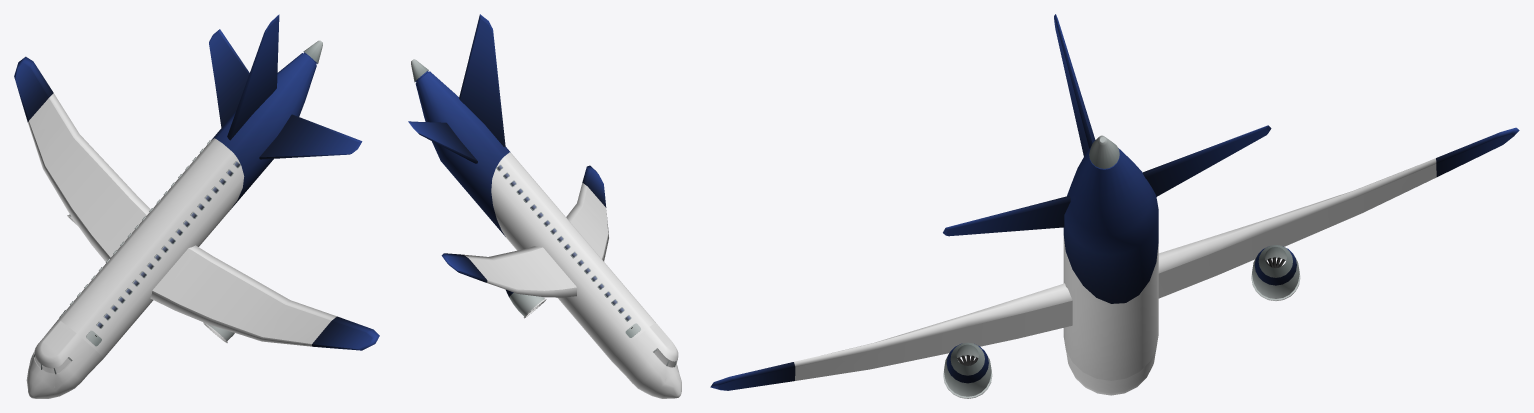
The model's file is Plane_Caduta.fbx.
The picture shows the model from 3 angles, left to right: view 1: azimuth 30°, elevation 25°; view 2: azimuth 150°, elevation 25°; view 3: azimuth 270°, elevation 25°; orthographic projection. The views are drawn at different scales.
Visible parts, largest first — view 1: pasted__vetro_plane1; view 2: pasted__vetro_plane1; view 3: pasted__vetro_plane1.
Part boxes in pixels (x1=…): pasted__vetro_plane1: x1=14, y1=14, x2=379, y2=398; pasted__vetro_plane1: x1=408, y1=14, x2=681, y2=398; pasted__vetro_plane1: x1=710, y1=14, x2=1519, y2=398.
Bounding box in the file's own units: 4462 × 5046 × 6877.
